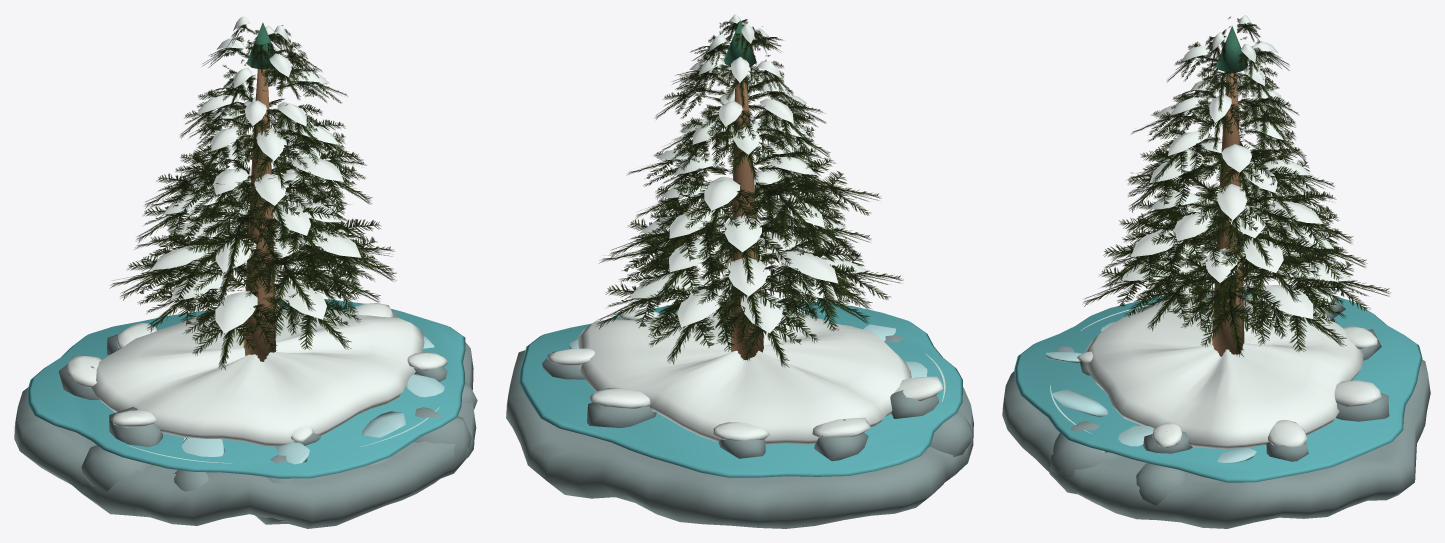
Rendered from snowy-island-v7.glb.
3 renders of one model, left to right at view 1: azimuth 30°, elevation 25°; view 2: azimuth 150°, elevation 25°; view 3: azimuth 270°, elevation 25°, orthographic. The views are drawn at different scales.
Parts seen in each view (by area): view 1: Snowy | Snow | soft, Snowy | Pine | twig atlas, Snowy | Rock | blue grey, Snowy | Sea | icy turquoise, Snowy | Pine | bark, Snowy | Ice | pale blue, Snowy | Pine | needles; view 2: Snowy | Snow | soft, Snowy | Pine | twig atlas, Snowy | Rock | blue grey, Snowy | Sea | icy turquoise, Snowy | Pine | bark, Snowy | Ice | pale blue, Snowy | Pine | needles; view 3: Snowy | Snow | soft, Snowy | Pine | twig atlas, Snowy | Rock | blue grey, Snowy | Sea | icy turquoise, Snowy | Pine | bark, Snowy | Ice | pale blue, Snowy | Pine | needles.
Part boxes in pixels (left/top/right/bottom): Snowy | Snow | soft: left=65, top=16, right=448, bottom=446; Snowy | Pine | twig atlas: left=109, top=24, right=396, bottom=369; Snowy | Rock | blue grey: left=14, top=309, right=477, bottom=528; Snowy | Sea | icy turquoise: left=27, top=297, right=465, bottom=478; Snowy | Pine | bark: left=243, top=69, right=275, bottom=361; Snowy | Ice | pale blue: left=181, top=336, right=444, bottom=464; Snowy | Pine | needles: left=247, top=22, right=275, bottom=69; Snowy | Snow | soft: left=547, top=14, right=942, bottom=444; Snowy | Pine | twig atlas: left=596, top=19, right=903, bottom=367; Snowy | Rock | blue grey: left=506, top=301, right=973, bottom=528; Snowy | Sea | icy turquoise: left=519, top=298, right=962, bottom=477; Snowy | Pine | bark: left=731, top=76, right=763, bottom=360; Snowy | Ice | pale blue: left=569, top=298, right=927, bottom=377; Snowy | Pine | needles: left=724, top=20, right=756, bottom=66; Snowy | Snow | soft: left=1076, top=15, right=1381, bottom=448; Snowy | Pine | twig atlas: left=1082, top=16, right=1390, bottom=356; Snowy | Rock | blue grey: left=1002, top=291, right=1430, bottom=528; Snowy | Sea | icy turquoise: left=1014, top=288, right=1422, bottom=482; Snowy | Pine | bark: left=1212, top=72, right=1244, bottom=356; Snowy | Ice | pale blue: left=1046, top=321, right=1256, bottom=463; Snowy | Pine | needles: left=1216, top=26, right=1248, bottom=72.
Size of the model in its own units: 1.64 by 1.62 by 1.44.
8 materials, 1 textured.
